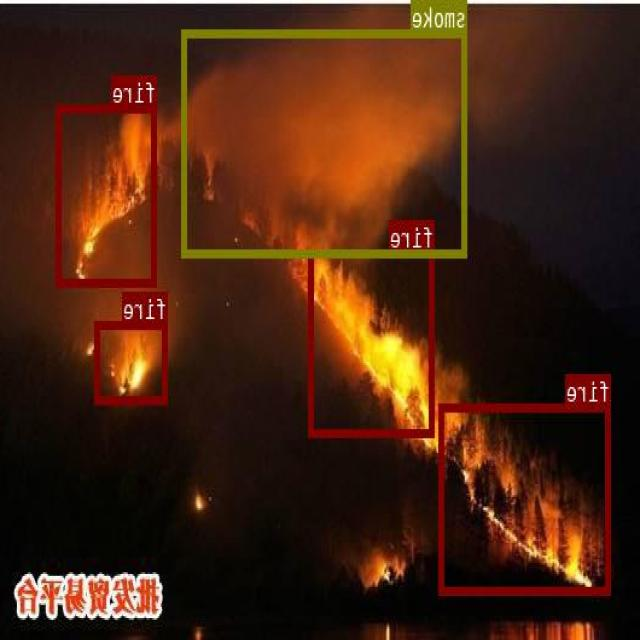fire: (440, 403, 612, 594), (310, 249, 435, 435), (57, 103, 157, 285), (96, 320, 168, 404)
smoke: (183, 28, 468, 255)
